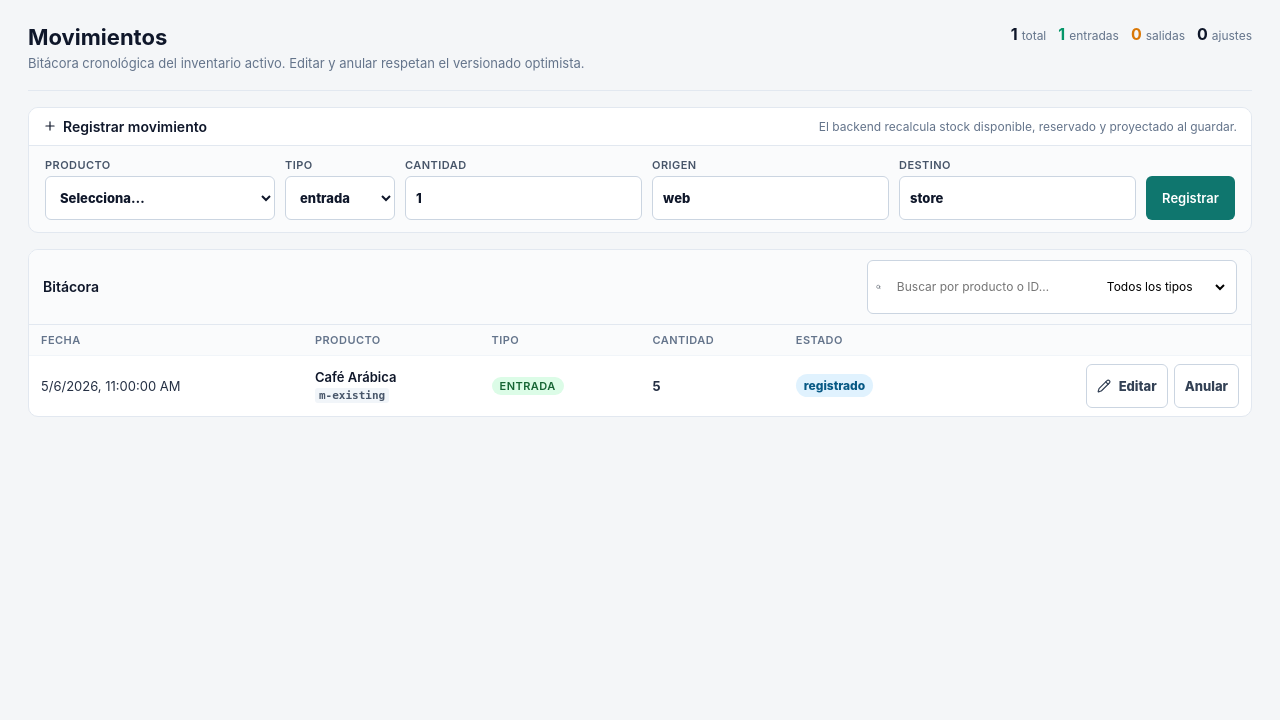
Test: InventoryMovementsPage › opens an accessible edit dialog when the edit button is clicked
The width and height of the screenshot is (1280, 720).
Click the button with aria-label "editar movimiento m-existing" at (1127,386), box [1086, 364, 1168, 408]
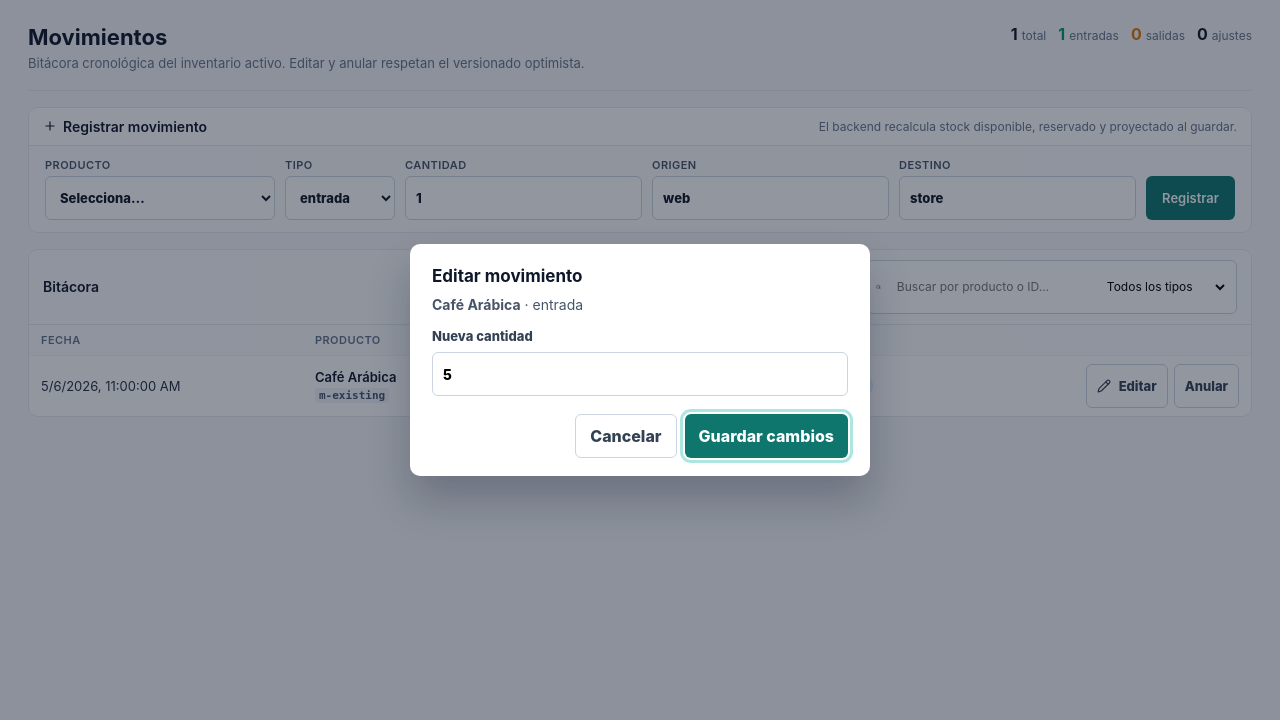
Expected: the number field labelled "Nueva cantidad" is shown, [432, 352, 848, 396]
